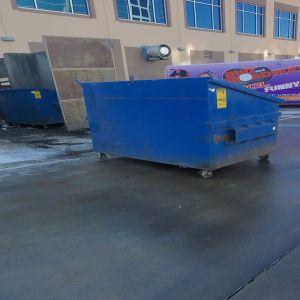Dumpster: (80, 90, 284, 179)
